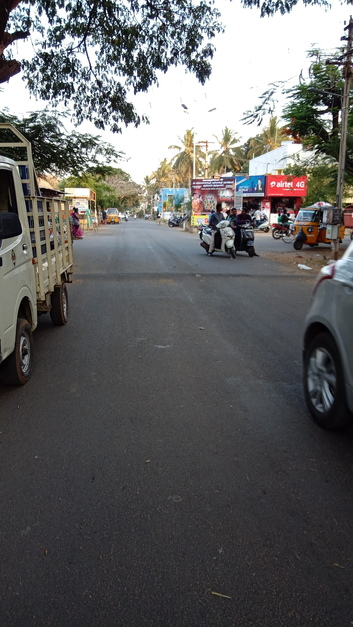bump: (74, 268, 323, 284)
